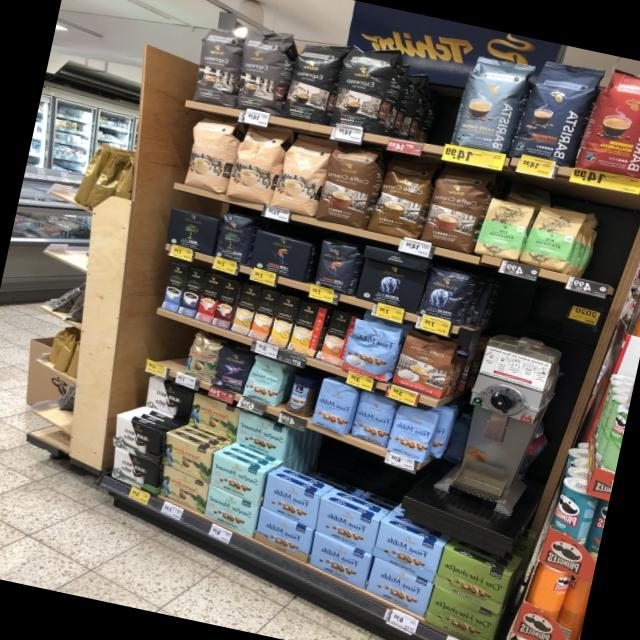AB Bohne: (414, 265, 475, 325)
AB Gemahlen: (354, 258, 425, 315)
Athiopien Gemahlen: (516, 195, 589, 275), (472, 191, 537, 262)
BW Bohne: (211, 210, 257, 266)
BW Gemahlen: (112, 414, 161, 465), (165, 208, 218, 255), (110, 446, 158, 496), (144, 377, 193, 424)
Barista CC: (447, 49, 537, 155)
Barista Espresso: (504, 53, 602, 167)
Barista Kolumbien: (567, 60, 640, 179)
C Fino Bohne: (210, 343, 255, 395)
CC Mild: (223, 119, 289, 208), (267, 131, 335, 217), (177, 112, 239, 196)
CC Vollmundig: (388, 324, 460, 401)
CC Vollmundig 36 Pads: (312, 144, 382, 231), (418, 172, 492, 254), (363, 160, 434, 243)
Colombia BB Bohne: (180, 334, 221, 383)
Colombia BB Gemahlen: (186, 392, 239, 442), (161, 431, 211, 483), (159, 464, 209, 515)
Empty Shelf: (379, 35, 464, 145), (149, 318, 192, 372)
Espresso Aromatisch: (229, 25, 294, 115), (184, 17, 244, 105)
Espresso Kraftig: (325, 41, 407, 138), (280, 32, 354, 126)
FM 36 Pads: (335, 310, 405, 384)
FM Bohne: (384, 401, 441, 464), (309, 375, 359, 439), (346, 390, 397, 451)
FM Gemahlen: (370, 520, 441, 583), (365, 556, 433, 617), (307, 530, 373, 589), (315, 497, 378, 554), (261, 472, 320, 531), (254, 506, 312, 563)
FM Instant: (278, 368, 320, 421)
Herzhatfe Mundig: (432, 547, 511, 616), (424, 584, 501, 640)
LG Bohne: (306, 234, 362, 295)
LG Gemahlen: (246, 229, 309, 284)
SM Bohne: (240, 353, 288, 408)
SM Gemahlen: (203, 483, 258, 538), (208, 452, 264, 506), (234, 411, 287, 462)
Simo CCMild: (286, 301, 327, 357)
Simo CCMild bigpack: (267, 294, 300, 349)
Simo CCVollmundig bigpack: (247, 289, 281, 342)
Simo Decaff: (229, 283, 262, 336)
Simo Es Brazil: (193, 272, 223, 324)
Simo Es Caramel: (210, 277, 241, 330)
Simo Es Kraft: (177, 267, 208, 318)
Simo Es Vanilla: (159, 261, 189, 312)
